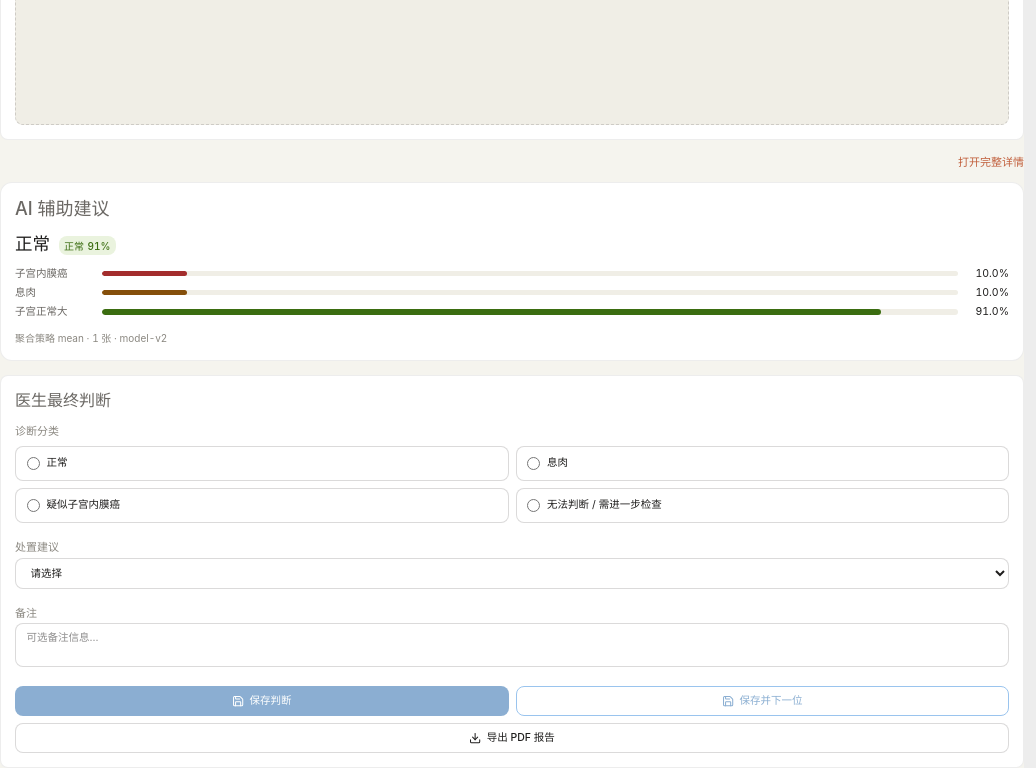
BatchDetail continuous diagnosis workflow › does not claim full diagnosis when terminal results include a real inference failure
(page scrolled)
Click the radio button labelled "正常" at point(33, 464), box [26, 457, 40, 470]
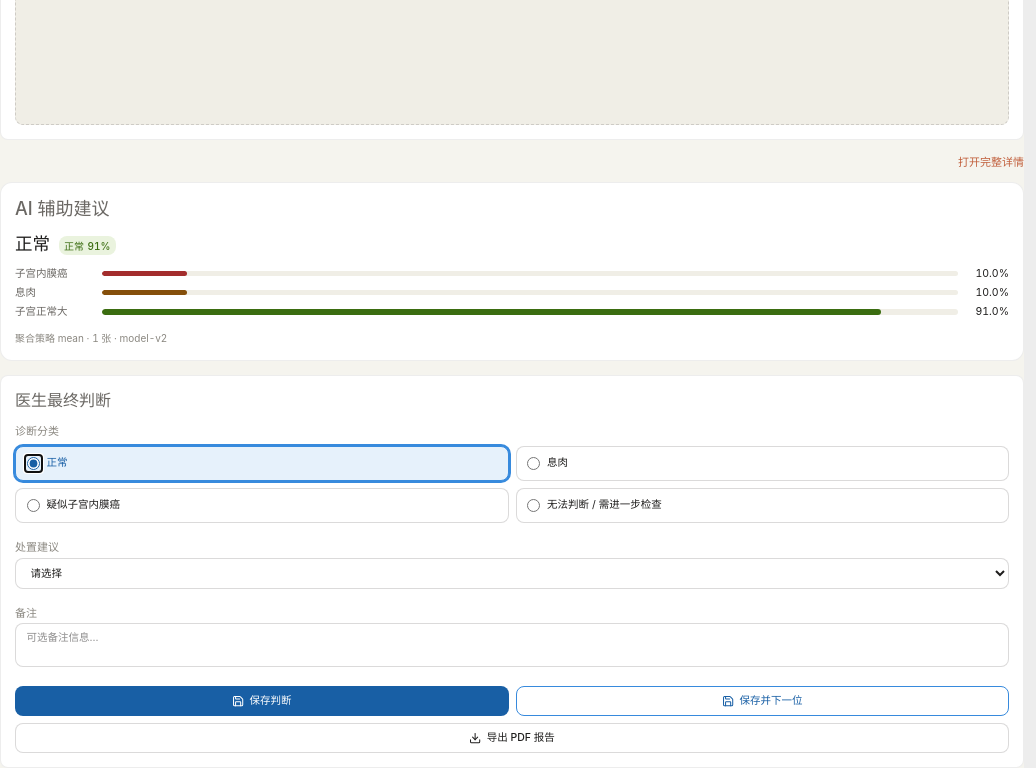
Click the button "保存并下一位" at point(762, 701), box [516, 686, 1009, 716]
(page scrolled)
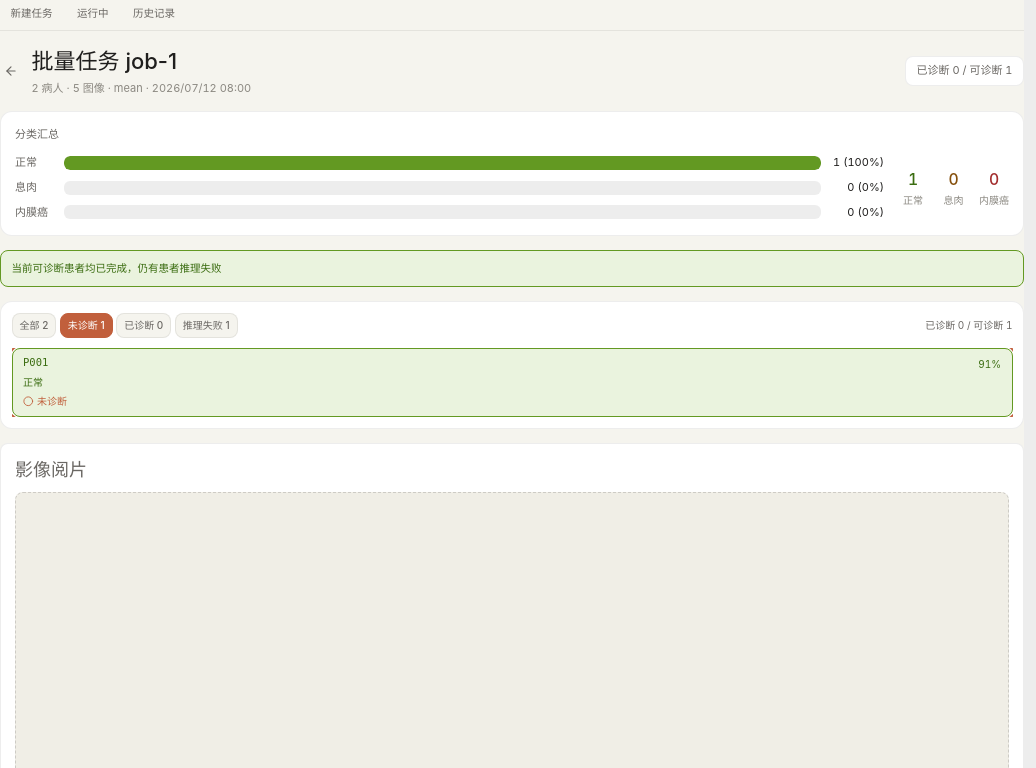
Expected: the text "当前可诊断患者均已完成，仍有患者推理失败" is shown, [0, 250, 1024, 287]
